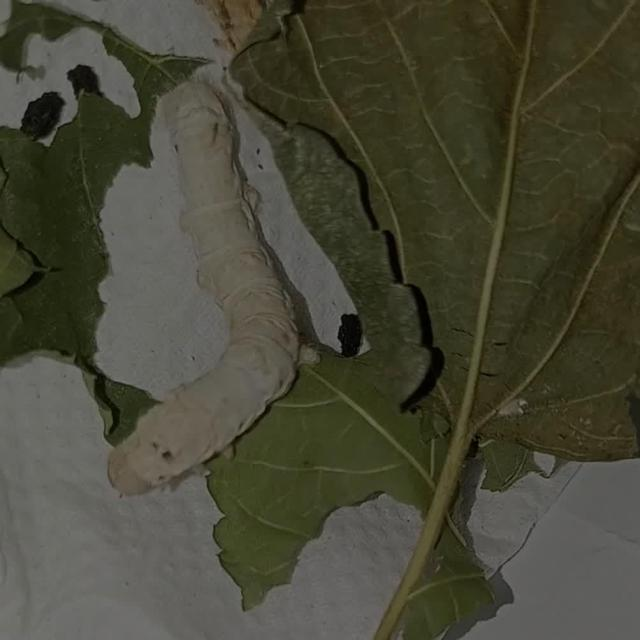Healthy: (86, 42, 350, 517)
